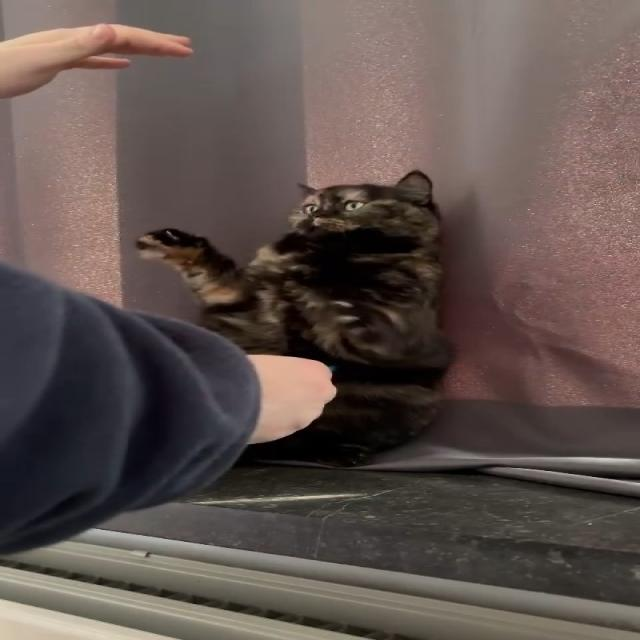authorized: (133, 168, 456, 468)
